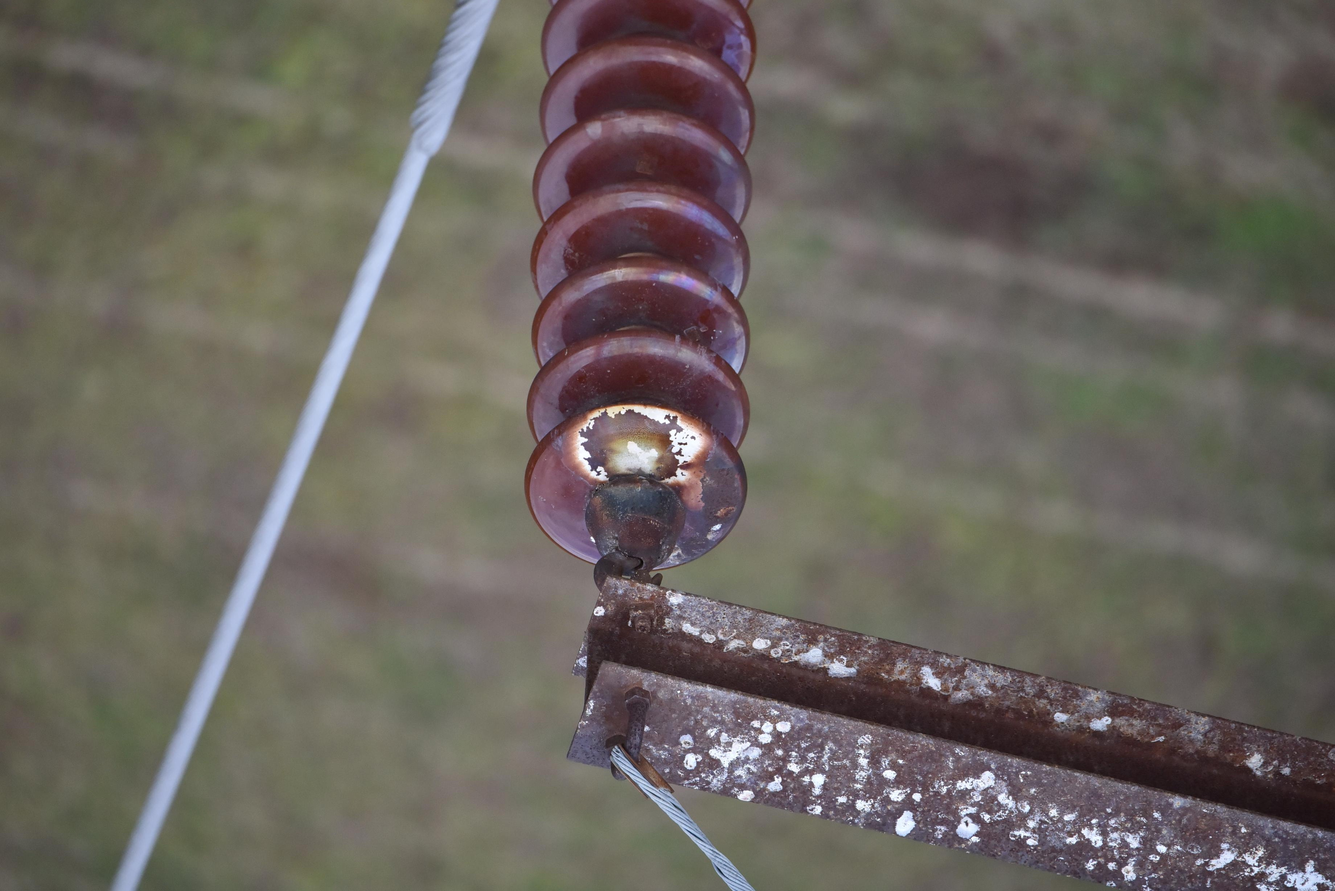Flashover: (566, 399, 709, 505)
insulator: (520, 0, 760, 563)
